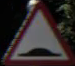Speed Breaker ahead: (11, 7, 64, 62)
